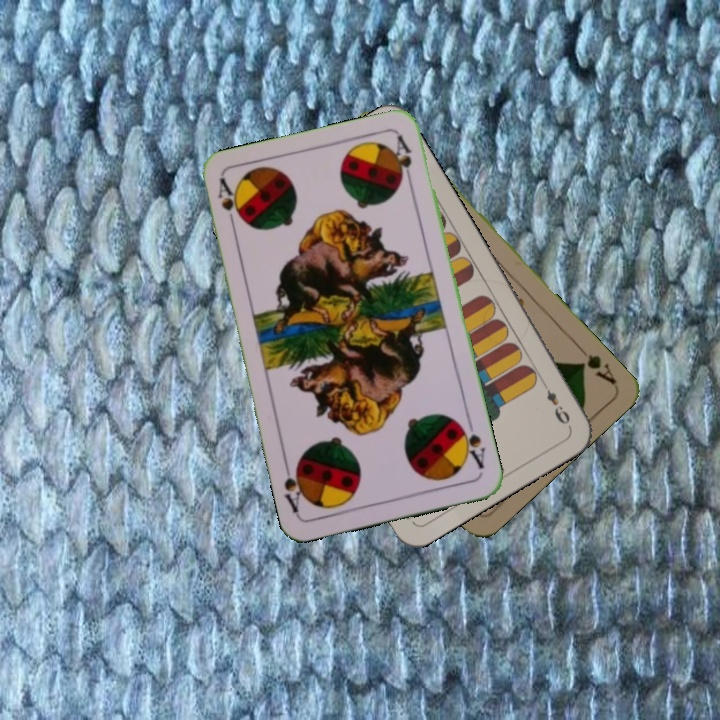E9: (538, 376, 573, 430)
GA: (572, 340, 619, 388)
SA: (454, 418, 488, 471), (213, 175, 243, 234)
